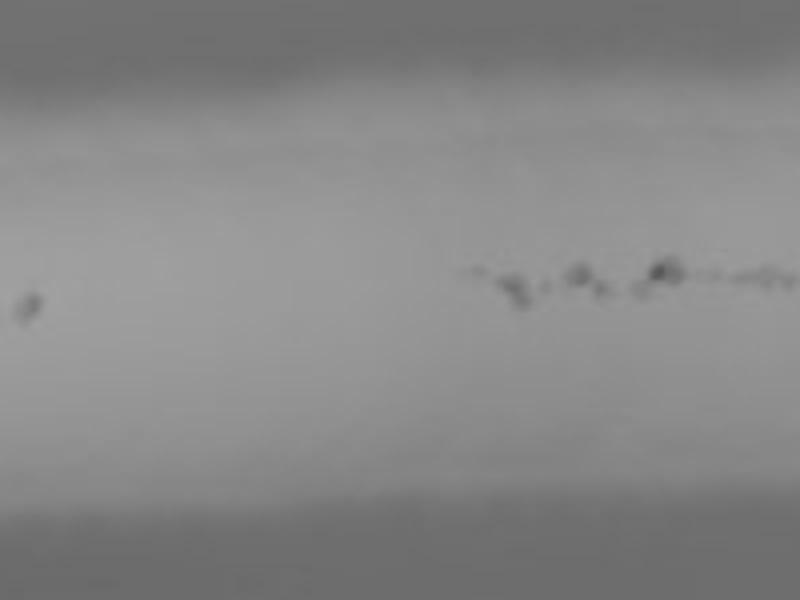defect: (497, 273, 536, 313), (647, 256, 687, 286), (8, 293, 44, 325), (732, 267, 773, 293), (563, 258, 592, 289), (591, 281, 618, 306), (630, 278, 653, 303), (775, 267, 792, 295), (535, 277, 553, 299), (463, 264, 490, 275)
